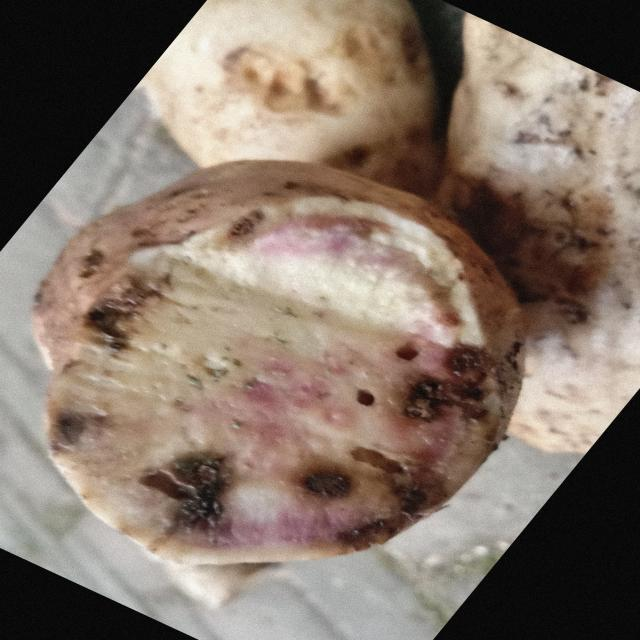Sick Sweet Potato_Tuber Rot: (47, 198, 520, 562)
